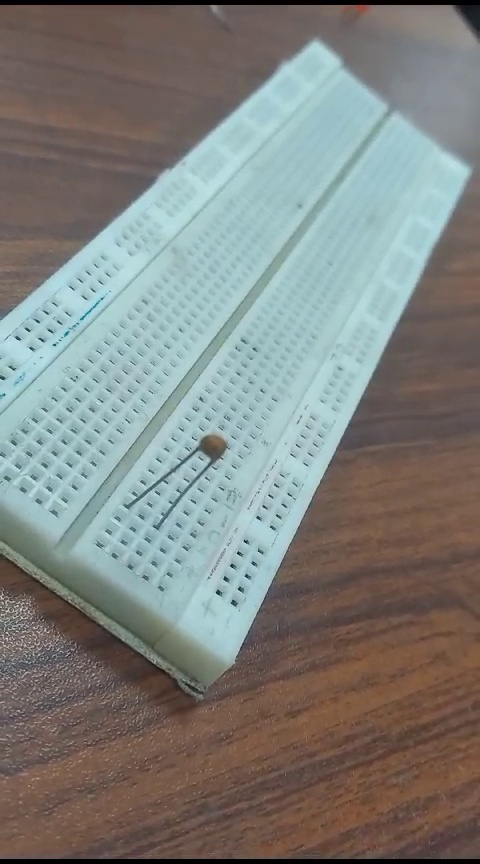ceramic capacitor: (126, 424, 242, 528)
